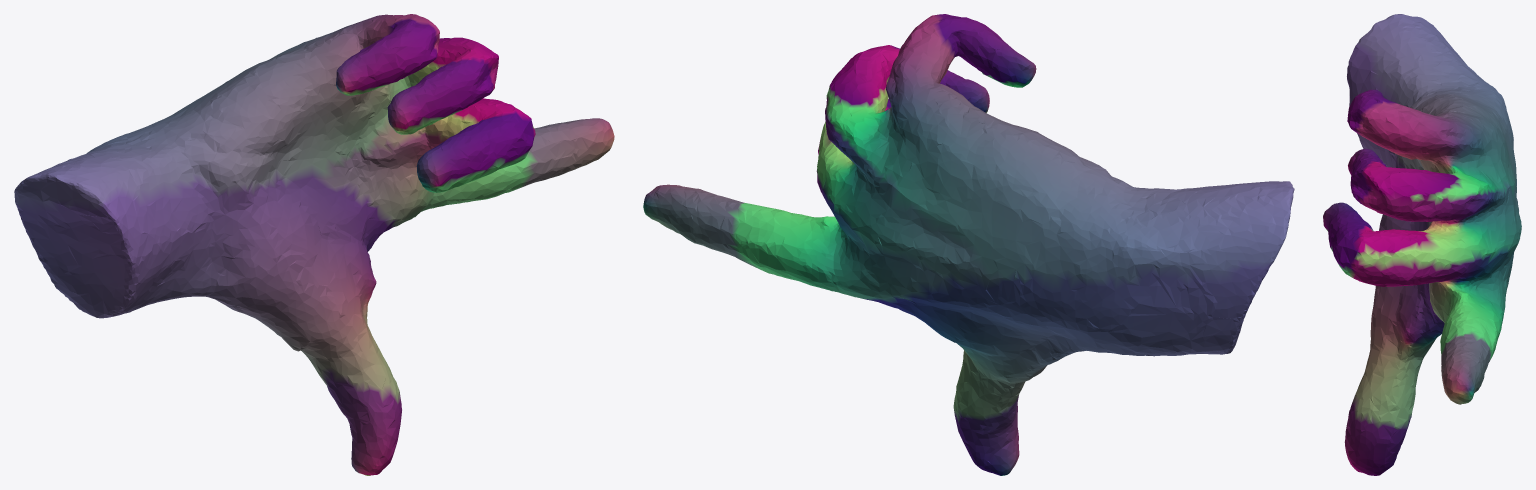
File: hand-19.off.obj
3 views of the same model, side by side, from view 1: azimuth 30°, elevation 25°; view 2: azimuth 150°, elevation 25°; view 3: azimuth 270°, elevation 25° (orthographic). The views are drawn at different scales.
Bounding box in the file's own units: 1.72 × 1.17 × 0.5345.
